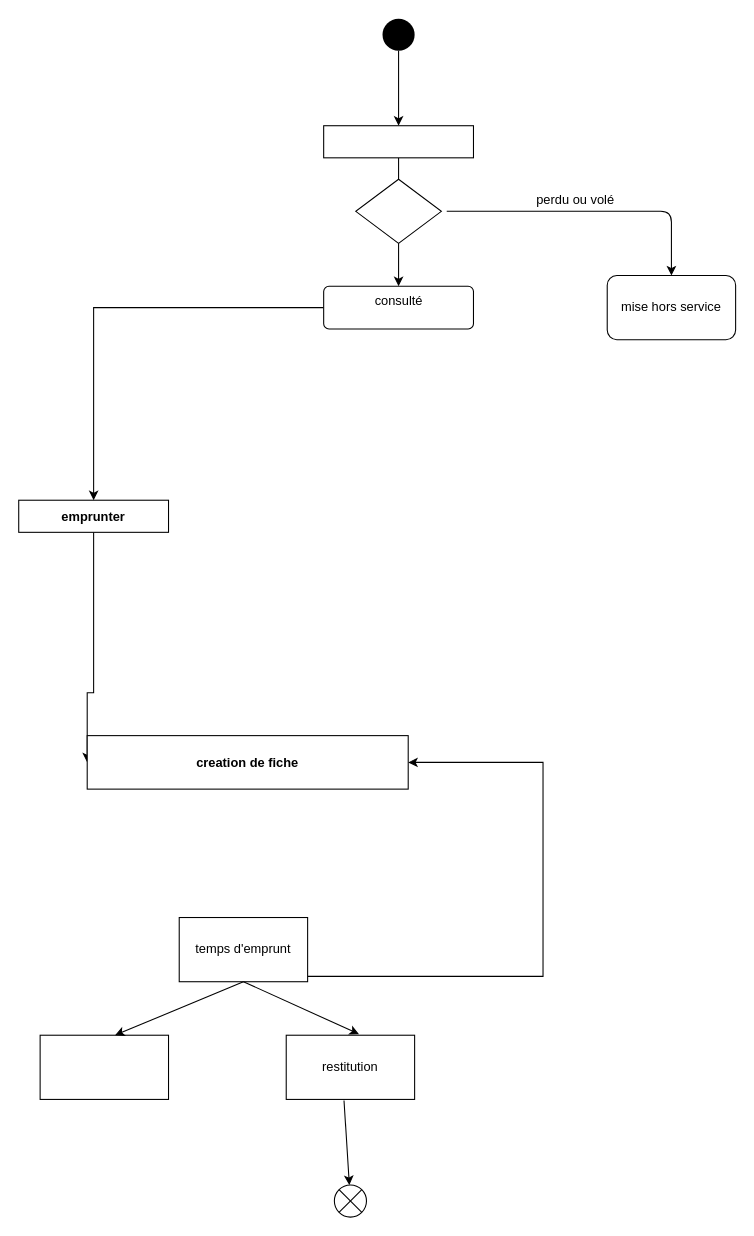
Some shapes in this 754 by 1236 pixel diagram are drawn without their labels. The shapes that lost their labels are listed below. From the top down, each one's box as (x1, y1, x2, y2) in pixels, then its label:
(323, 125, 473, 158): insertion document
(355, 178, 441, 243): ok
(39, 1034, 169, 1099): relance
